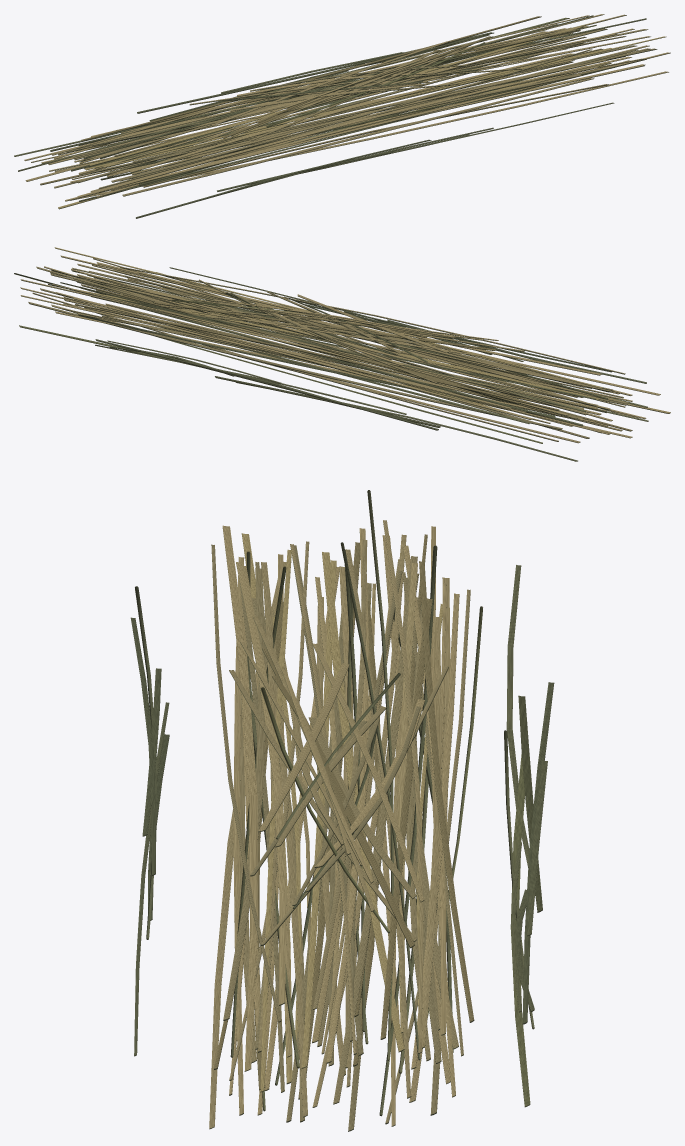
The model's file is dry-fuel.glb.
3 views of the same model, one above another, from view 1: azimuth 30°, elevation 25°; view 2: azimuth 150°, elevation 25°; view 3: azimuth 270°, elevation 25° (orthographic). The views are drawn at different scales.
Visible parts, largest first — view 1: Fuel_Split_Faces, Fuel_Rind_And_Stalks, Fuel_Loose_Strips; view 2: Fuel_Split_Faces, Fuel_Rind_And_Stalks, Fuel_Loose_Strips; view 3: Fuel_Split_Faces, Fuel_Rind_And_Stalks, Fuel_Loose_Strips.
Part boxes in pixels (box(x1,y1,x2,y2)): Fuel_Split_Faces: box(24, 14, 669, 208); Fuel_Rind_And_Stalks: box(18, 14, 670, 209); Fuel_Loose_Strips: box(14, 17, 614, 218); Fuel_Split_Faces: box(20, 247, 670, 442); Fuel_Rind_And_Stalks: box(14, 248, 670, 443); Fuel_Loose_Strips: box(19, 267, 646, 461); Fuel_Split_Faces: box(209, 520, 473, 1130); Fuel_Rind_And_Stalks: box(209, 490, 482, 1131); Fuel_Loose_Strips: box(130, 565, 554, 1107).
Size of the model in its own units: 3.49 by 0.2041 by 1.01.
2 materials, 2 textured.
